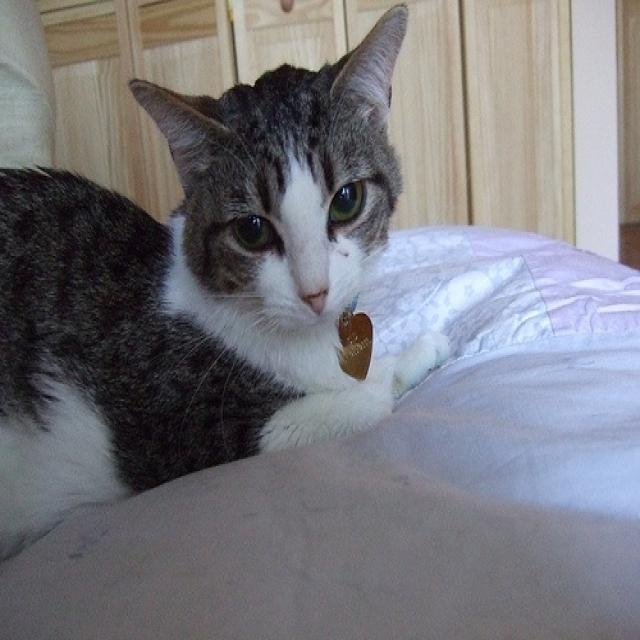cat: (0, 3, 424, 527)
